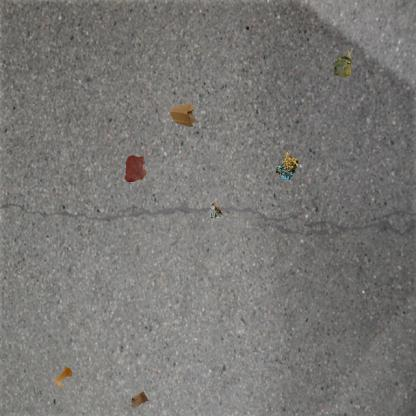dirty: (273, 150, 301, 183), (167, 101, 199, 129), (331, 45, 355, 80), (128, 388, 150, 412), (209, 200, 226, 223)
liquid: (123, 154, 148, 183), (52, 366, 73, 391)
